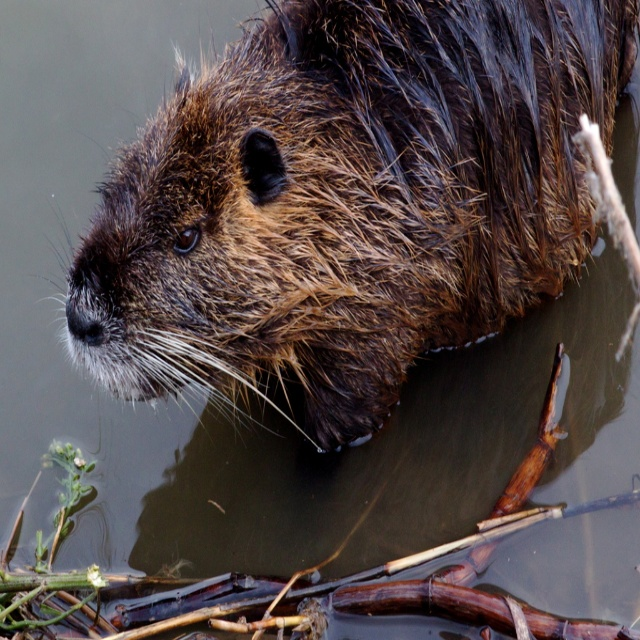Otter: (21, 0, 639, 455)
